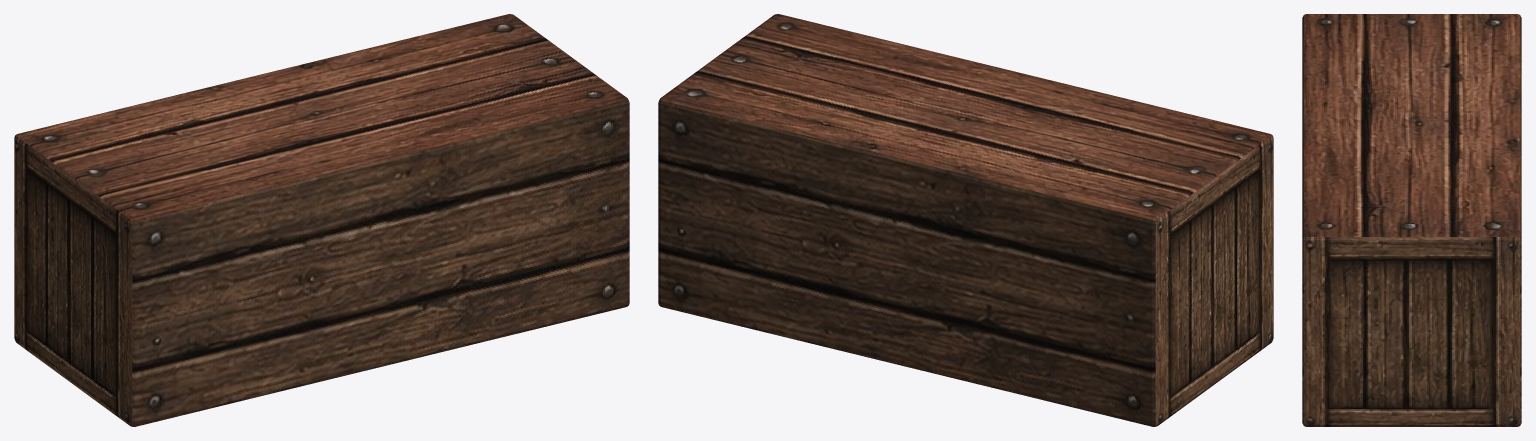
The model's file is crate_long.glb.
The picture shows the model from 3 angles, left to right: view 1: azimuth 30°, elevation 25°; view 2: azimuth 150°, elevation 25°; view 3: azimuth 270°, elevation 25°; orthographic projection. The views are drawn at different scales.
Parts seen in each view (by area): view 1: body, piece_02, piece_01, piece_03, piece_06, piece_00, piece_09, piece_08, piece_07, piece_11; view 2: body, piece_11, piece_07, piece_10, piece_06, piece_04, piece_05, piece_03, piece_02, piece_08, piece_00; view 3: body, piece_02, piece_07, piece_06, piece_03, piece_01, piece_09, piece_10, piece_04.
Boxes of the visible parts, x1,y1,x2,y2 form: body: [14, 14, 629, 426]; piece_02: [309, 47, 629, 246]; piece_01: [355, 232, 629, 372]; piece_03: [92, 125, 354, 270]; piece_06: [14, 76, 305, 232]; piece_00: [105, 304, 356, 426]; piece_09: [355, 217, 629, 302]; piece_08: [92, 236, 355, 360]; piece_07: [254, 14, 557, 123]; piece_11: [14, 162, 91, 334]; body: [658, 14, 1273, 426]; piece_11: [913, 205, 1235, 377]; piece_07: [658, 65, 990, 220]; piece_10: [658, 194, 914, 315]; piece_06: [915, 116, 1236, 244]; piece_04: [658, 250, 912, 368]; piece_05: [912, 310, 1234, 426]; piece_03: [997, 81, 1273, 204]; piece_02: [705, 14, 1050, 112]; piece_08: [1235, 185, 1273, 309]; piece_00: [1234, 280, 1273, 349]; body: [1302, 14, 1521, 426]; piece_02: [1302, 112, 1436, 345]; piece_07: [1402, 115, 1521, 331]; piece_06: [1374, 14, 1521, 123]; piece_03: [1302, 14, 1401, 115]; piece_01: [1302, 359, 1438, 426]; piece_09: [1302, 332, 1437, 368]; piece_10: [1436, 323, 1521, 373]; piece_04: [1437, 369, 1521, 426].
Size of the model in its own units: 1.5 by 0.6 by 0.62.
Materials: 1 (1 with a texture image).
